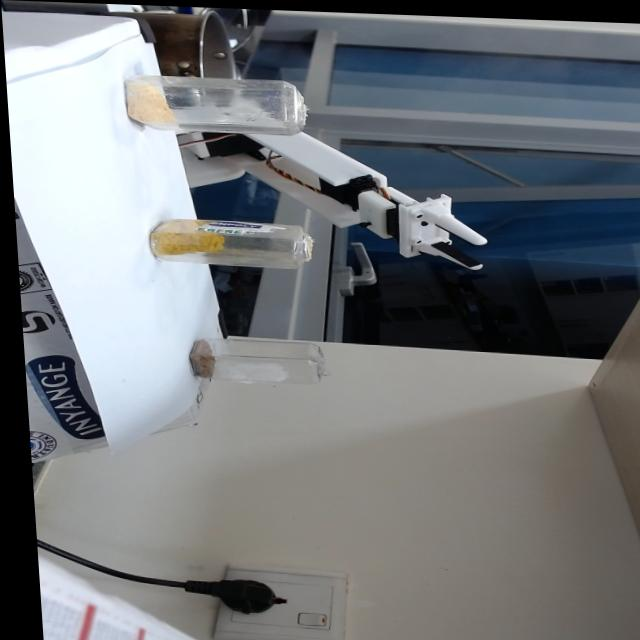cooking_pot: (93, 4, 245, 79)
curry_powder: (145, 216, 223, 256)
garlic_powder: (122, 75, 178, 128)
maggie_open: (184, 338, 212, 375)
